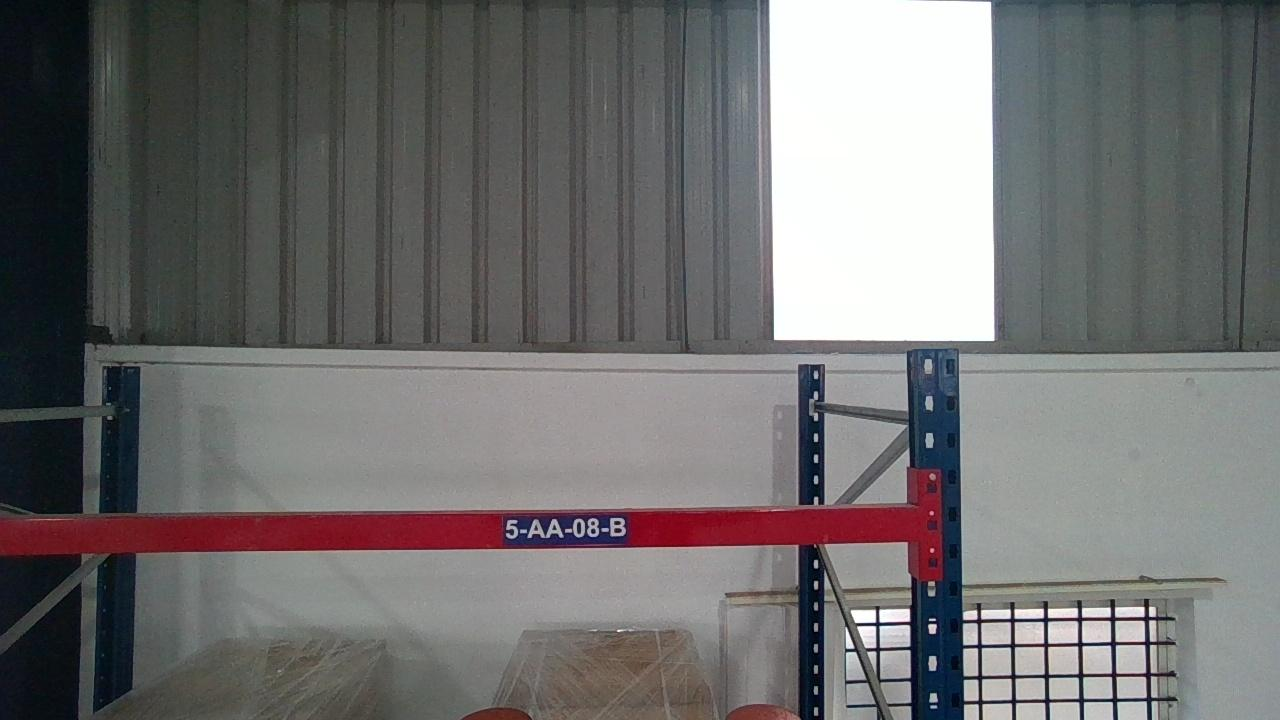h_rack: (1, 510, 922, 551)
